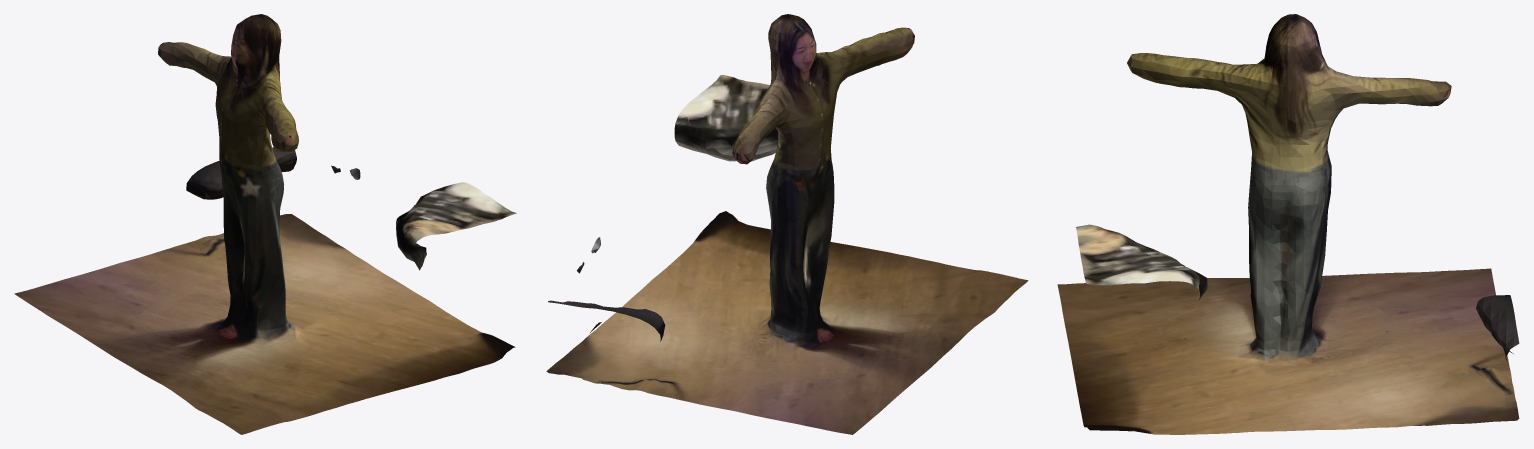
The model's file is mbo_friends_katie.glb.
The picture shows the model from 3 angles, left to right: view 1: azimuth 30°, elevation 25°; view 2: azimuth 150°, elevation 25°; view 3: azimuth 270°, elevation 25°; orthographic projection. The views are drawn at different scales.
Size of the model in its own units: 1.75 by 1.64 by 2.04.
1 material, 1 textured.
